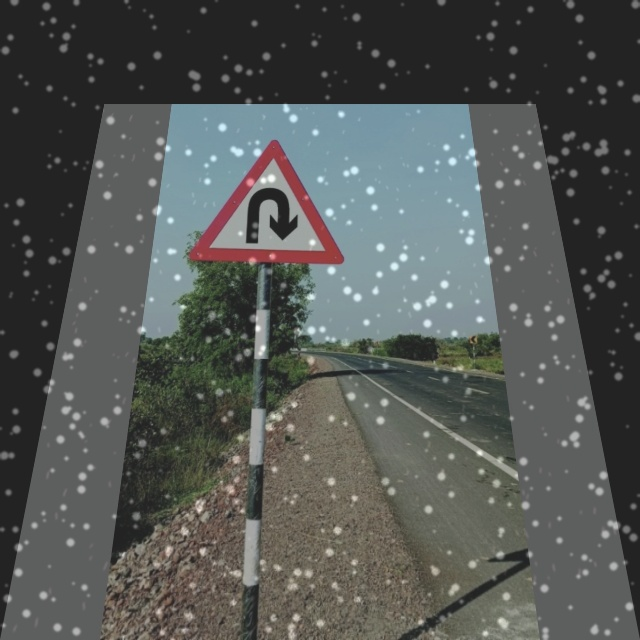Right_Hair_Pin_Bend: (199, 138, 342, 263)
